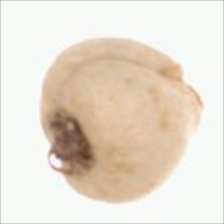L3: (161, 56, 204, 109)
L4: (39, 37, 205, 205)
